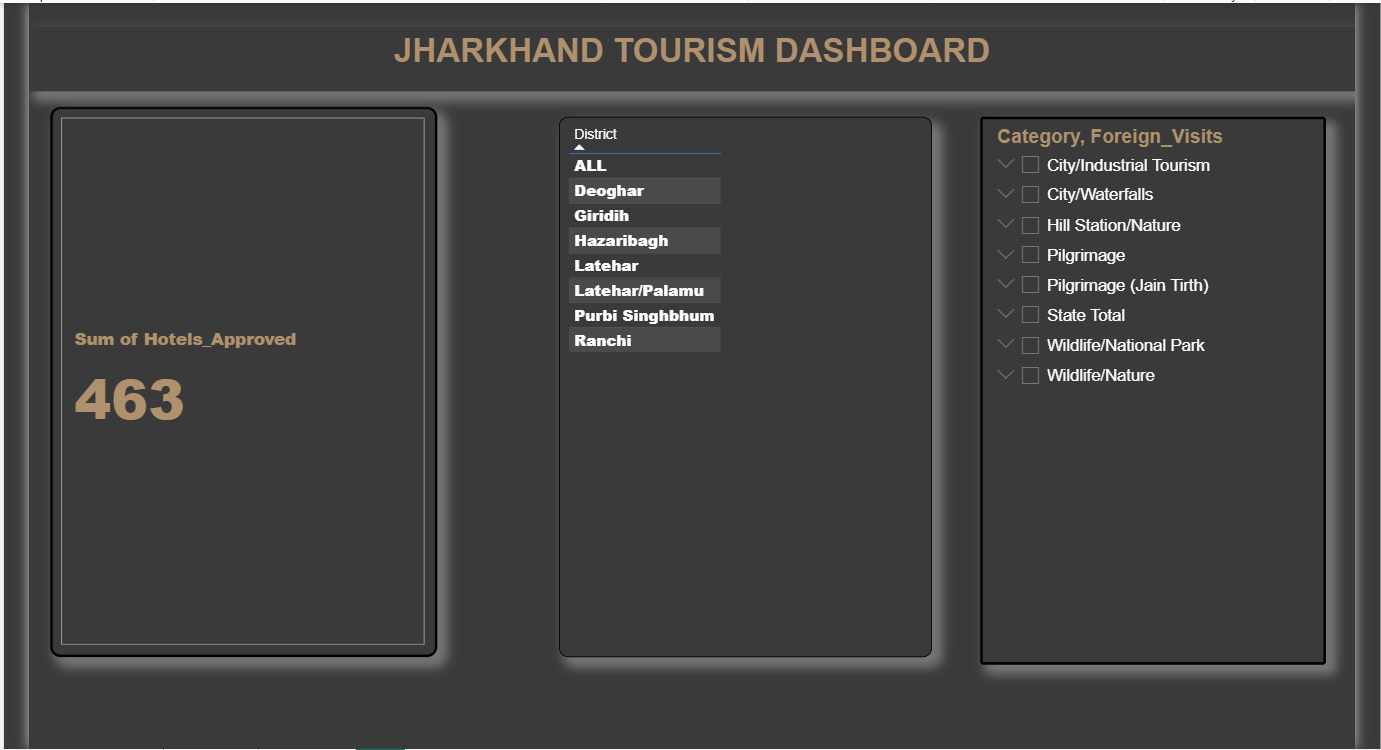

The page's visual inventory and layout, read from the dashboard file:
{"tool":"powerbi","page":{"name":"Page 2","canvas":[1280,720],"ordinal":1},"visuals":[{"type":"cardVisual","title":"HOTEL APPROVED","fields":{"Data":["Sum(jharkhand_tourism_sample.Hotels_Approved)"]},"box":[20,100,373.8,531.2],"z":0},{"type":"tableEx","fields":{"Values":["jharkhand_tourism_sample.District"]},"box":[511.2,110,360,521.2],"z":1000},{"type":"textbox","box":[0,22.5,1280,62.5],"z":2000},{"type":"slicer","fields":{"Values":["jharkhand_tourism_sample.Category","jharkhand_tourism_sample.Foreign_Visits"]},"box":[917.5,110,333.8,528.8],"z":3000}]}

Visuals, with their boxes on the page's 1280x720 design canvas (x1, y1, x2, y2). These are canvas units, not pixel positions in the 1381x750 screenshot, which may show the page scaled, cropped or inside an application window:
"HOTEL APPROVED" cardVisual: [20,100,394,631]
tableEx - jharkhand_tourism_sample.District: [511,110,871,631]
textbox: [0,22,1280,85]
slicer - jharkhand_tourism_sample.Category x jharkhand_tourism_sample.Foreign_Visits: [918,110,1251,639]
